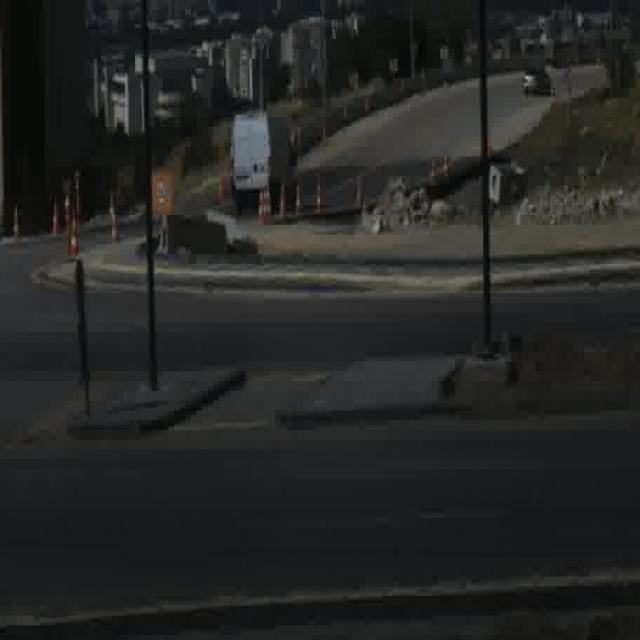Car: (230, 116, 300, 215), (522, 64, 552, 101)
